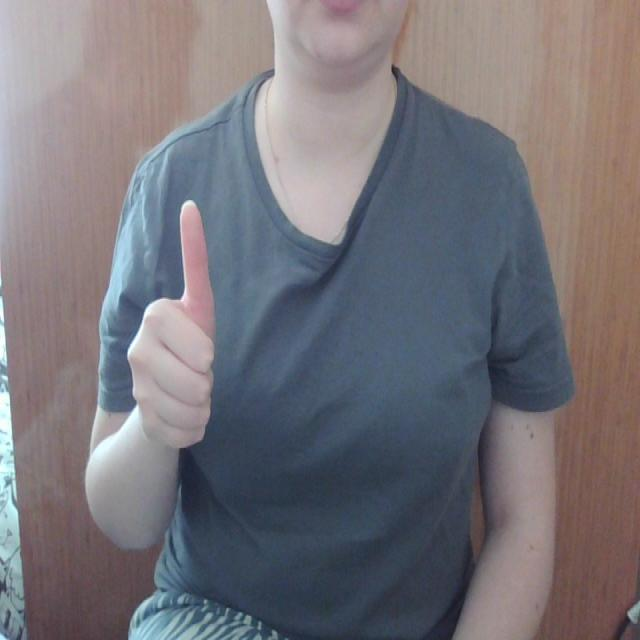Tamam: (125, 197, 222, 459)
